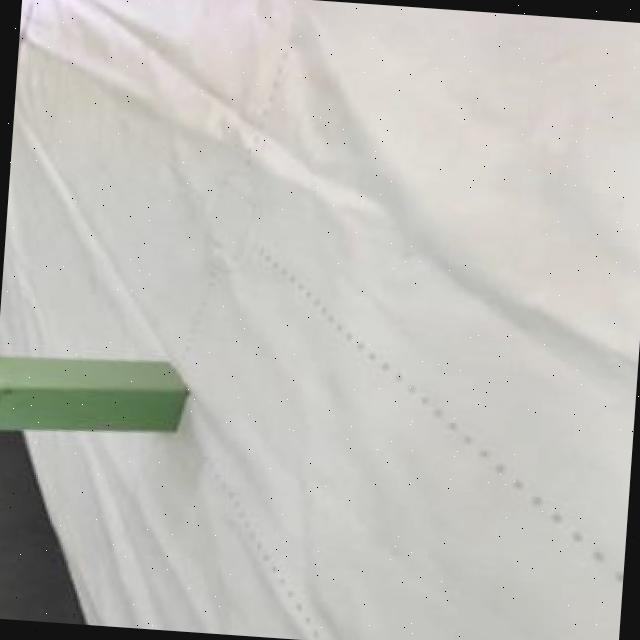greenbox: (0, 348, 188, 442)
